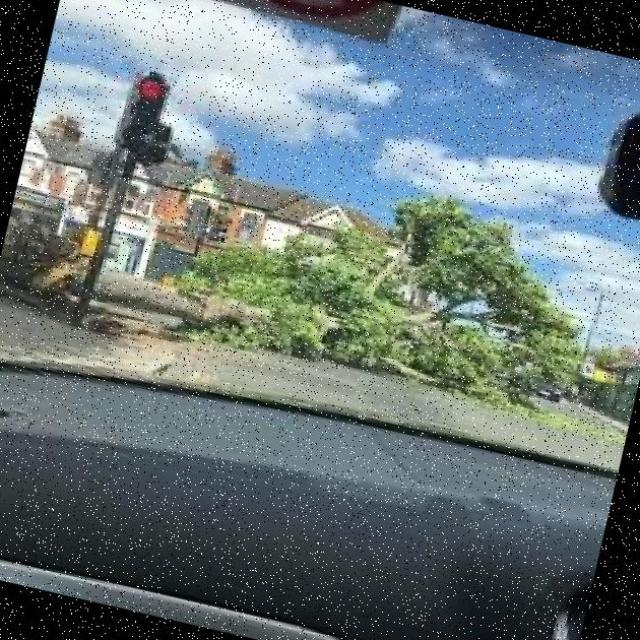fallen_object: (18, 178, 578, 416)
